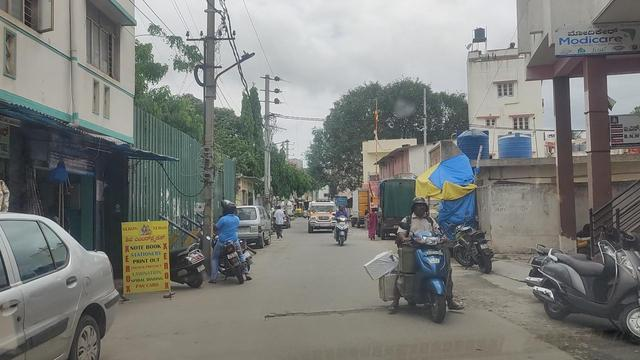LMV: (211, 198, 248, 286), (332, 205, 349, 247)
RoadDamages: (258, 297, 394, 324)
